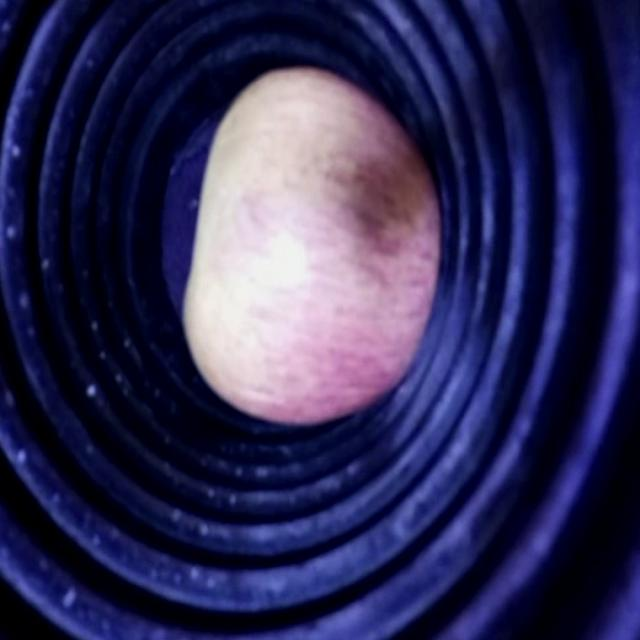obstacles: (182, 66, 444, 426)
